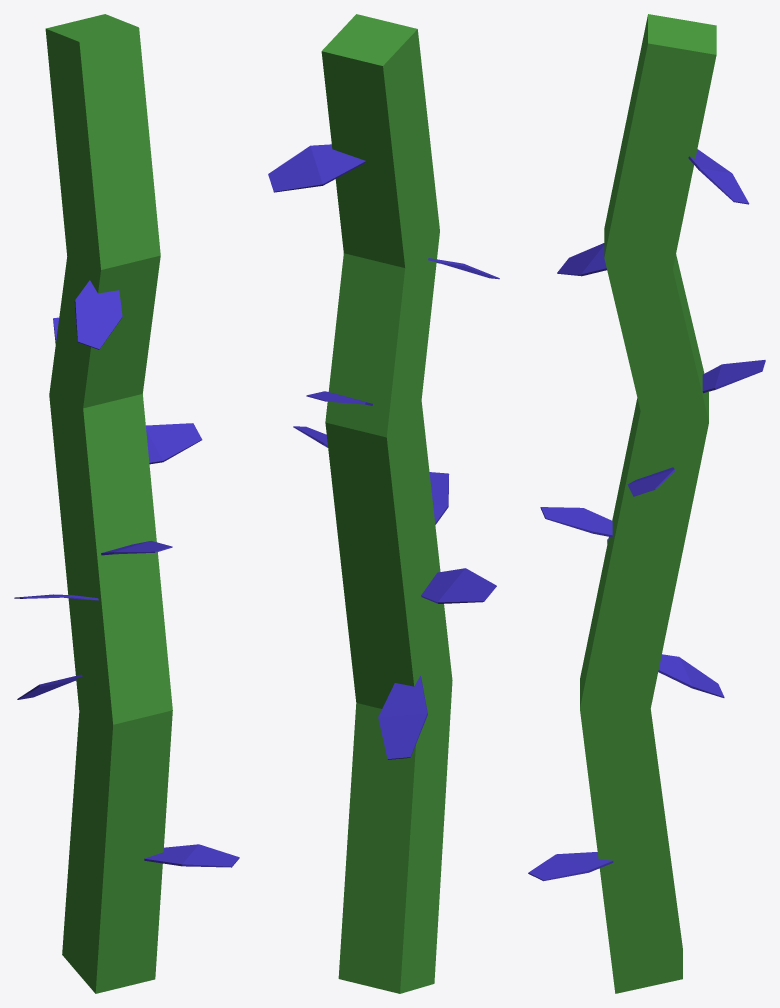
Rendered from catmint.fbx.
3 views of the same model, side by side, from view 1: azimuth 30°, elevation 25°; view 2: azimuth 150°, elevation 25°; view 3: azimuth 270°, elevation 25° (orthographic). The views are drawn at different scales.
Visible parts, largest first — view 1: Cube; view 2: Cube; view 3: Cube.
Boxes of the visible parts, box(x1,y1,x2,y2) form: Cube: box(14, 14, 239, 993); Cube: box(268, 14, 499, 993); Cube: box(528, 14, 765, 993).
Size of the model in its own units: 92.6 by 451 by 102.
